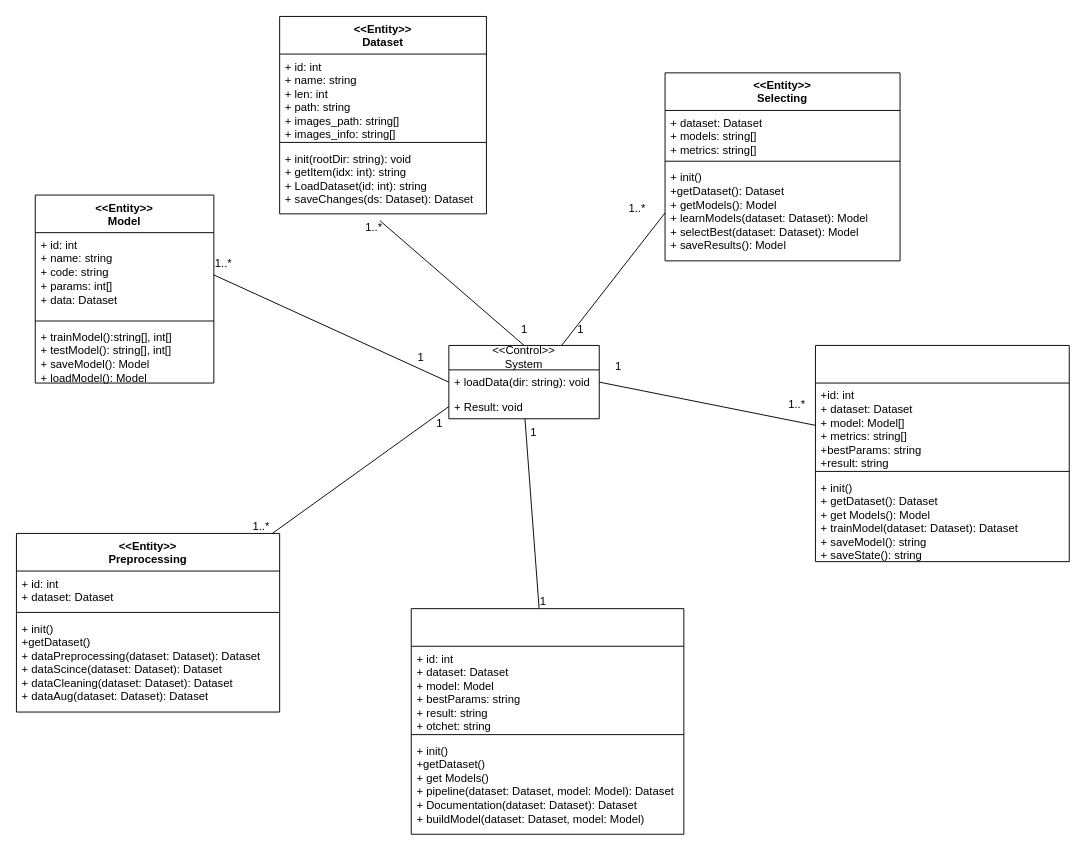
The diagram is 1086 pixels wide and 854 high, and some of its shapes have lost their labels. Here are the shapes that lost their labels. From the top down, the box of each, then its label:
(815, 345, 1069, 562): <<Entity>> Training
(410, 608, 684, 834): <<Entity>> Relise
